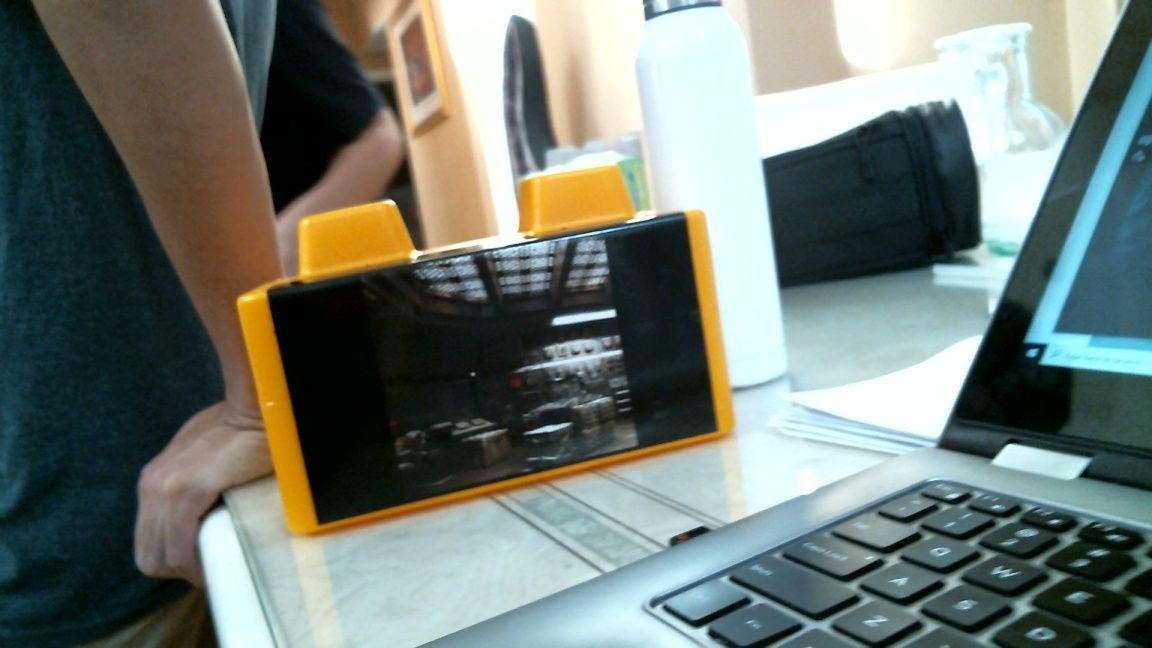skystone: (234, 161, 734, 539)
